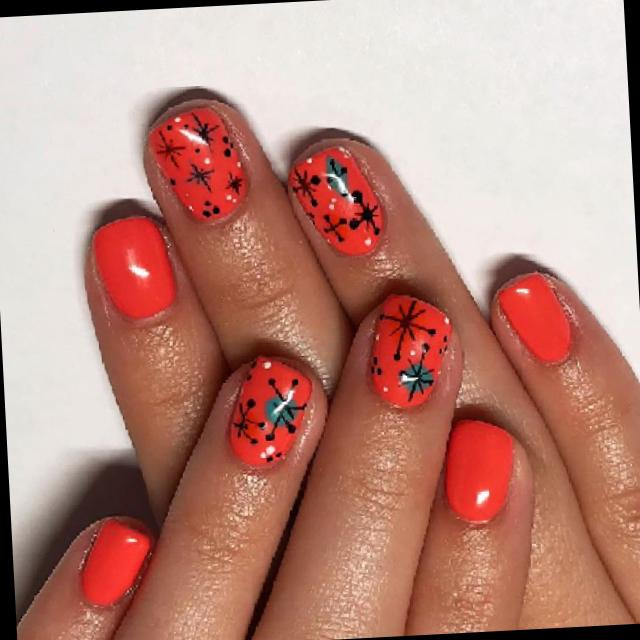Nail: (151, 107, 245, 220), (288, 146, 383, 255), (370, 294, 451, 407), (228, 356, 311, 466), (91, 215, 176, 318), (443, 418, 512, 523), (496, 272, 571, 363), (81, 520, 152, 606)
